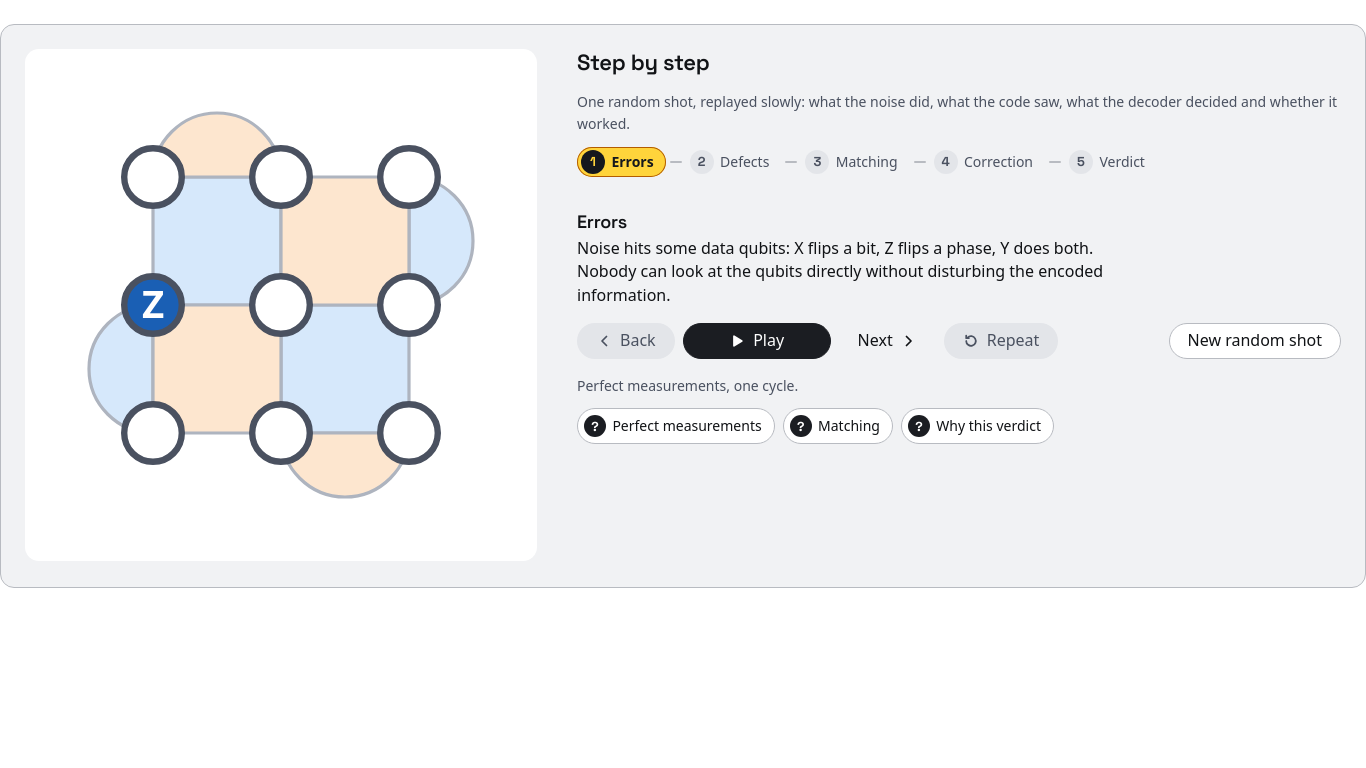
Scenario: StepsPanel › disables back and repeat on the first step, next on the last
Check: the button "Back" is disabled, box [577,323,675,359]
Check: the button "Repeat" is disabled, box [944,323,1058,359]
Click the button "Next".
click(887, 341)  # box [839,323,936,359]
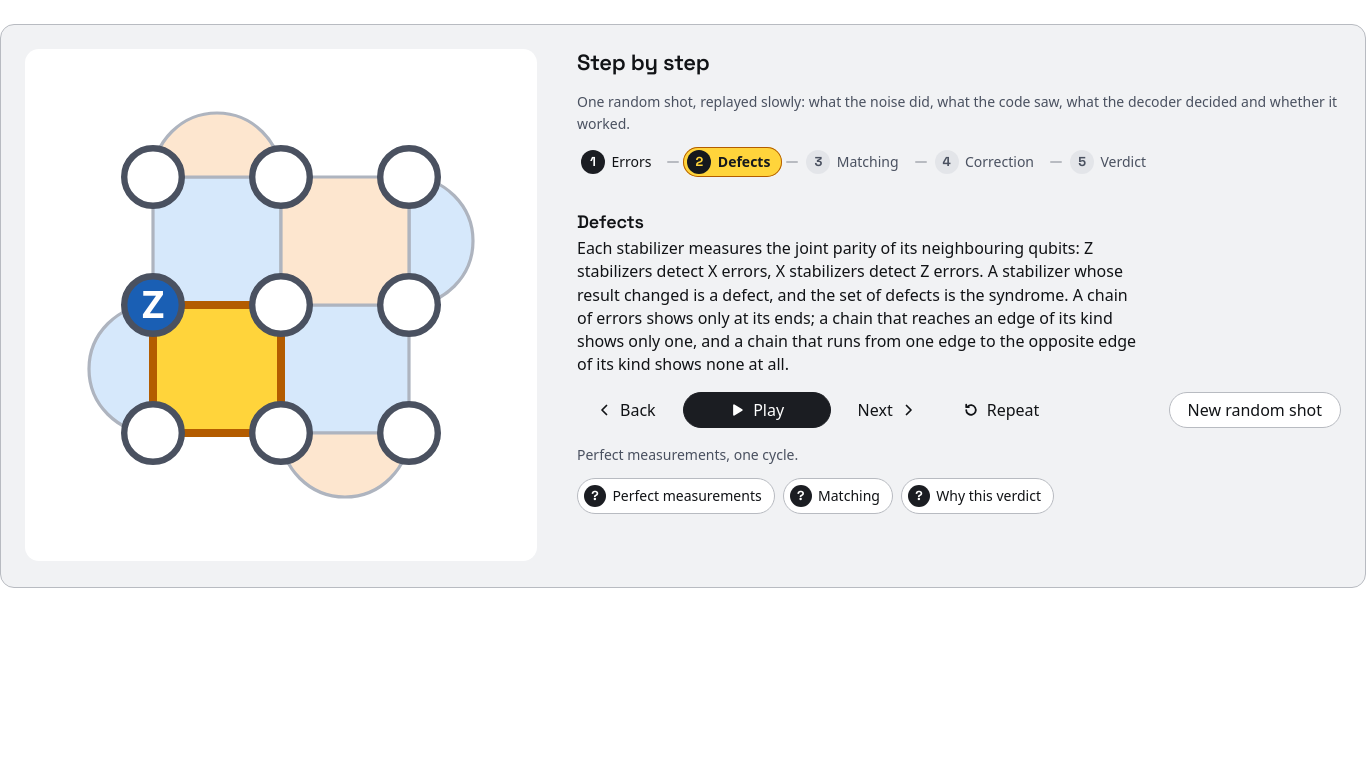
Click the button "Next".
click(887, 410)  # box [839,392,936,428]
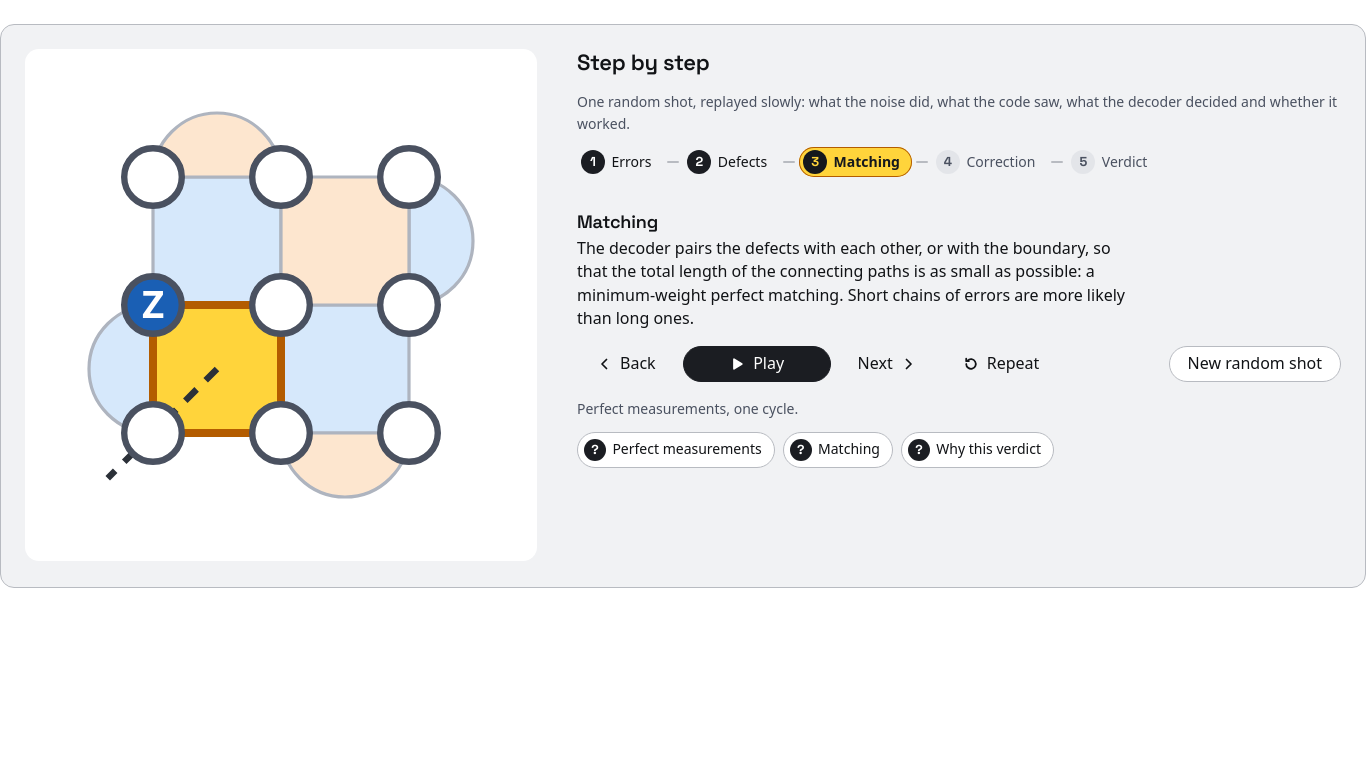
Click the button "Next".
click(887, 364)  # box [839,346,936,382]
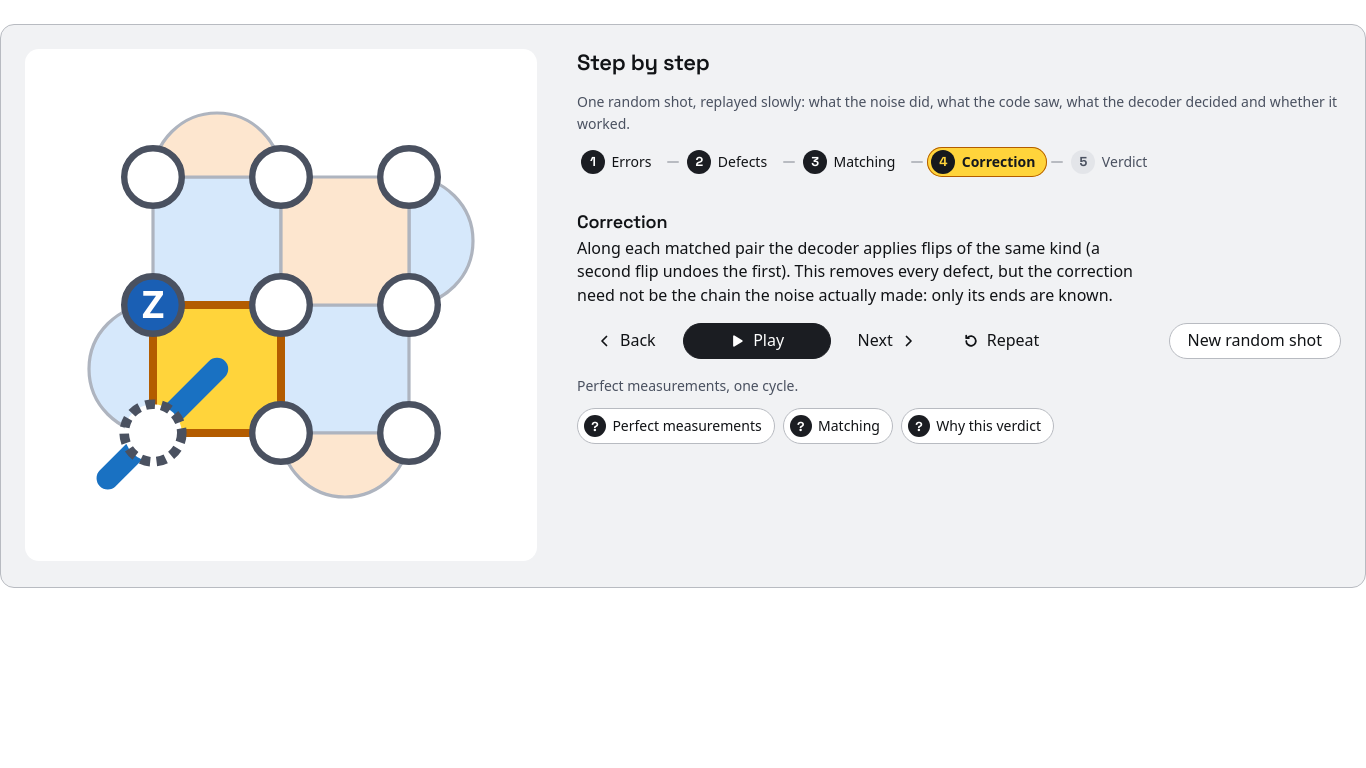
Click the button "Next".
click(887, 341)  # box [839,323,936,359]
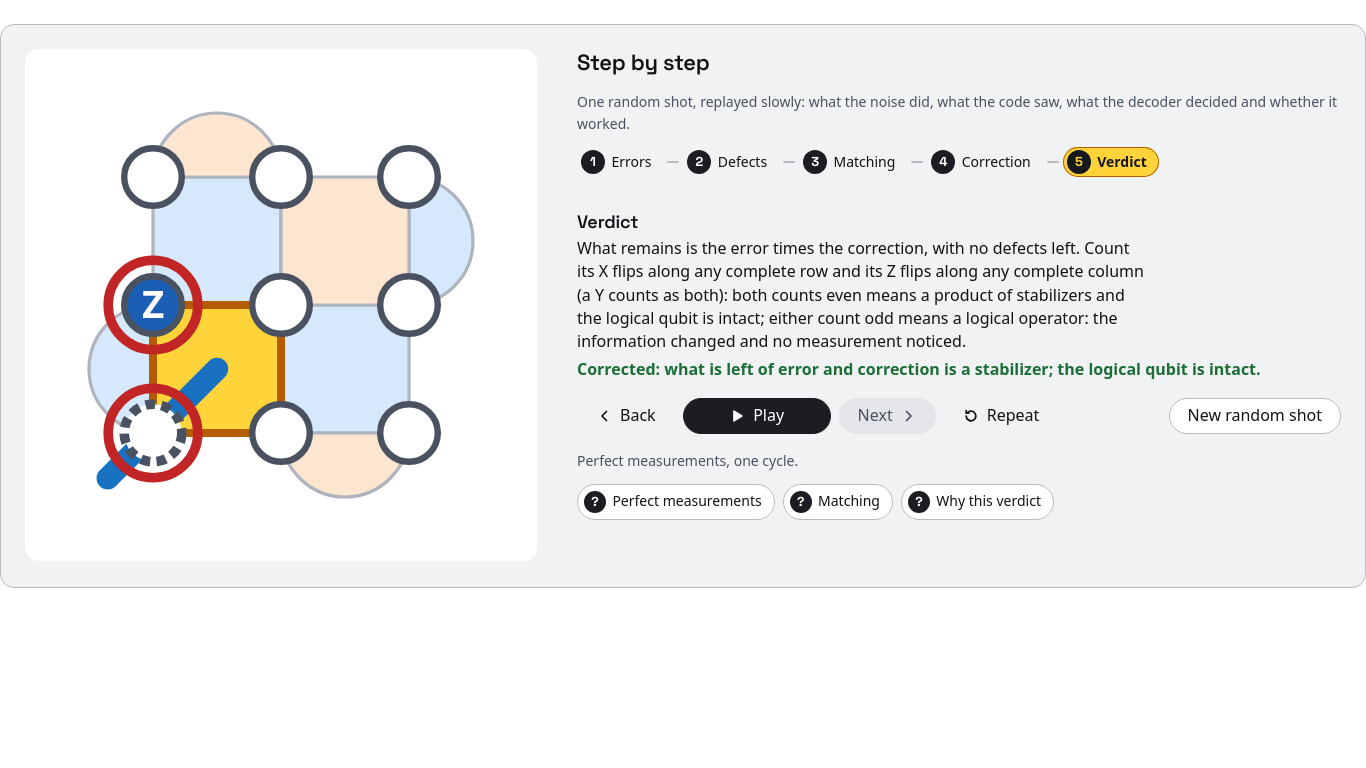
Check: the button "Back" is enabled, box [577,398,675,434]
Check: the button "Repeat" is enabled, box [944,398,1058,434]
Check: the button "Next" is disabled, box [839,398,936,434]
